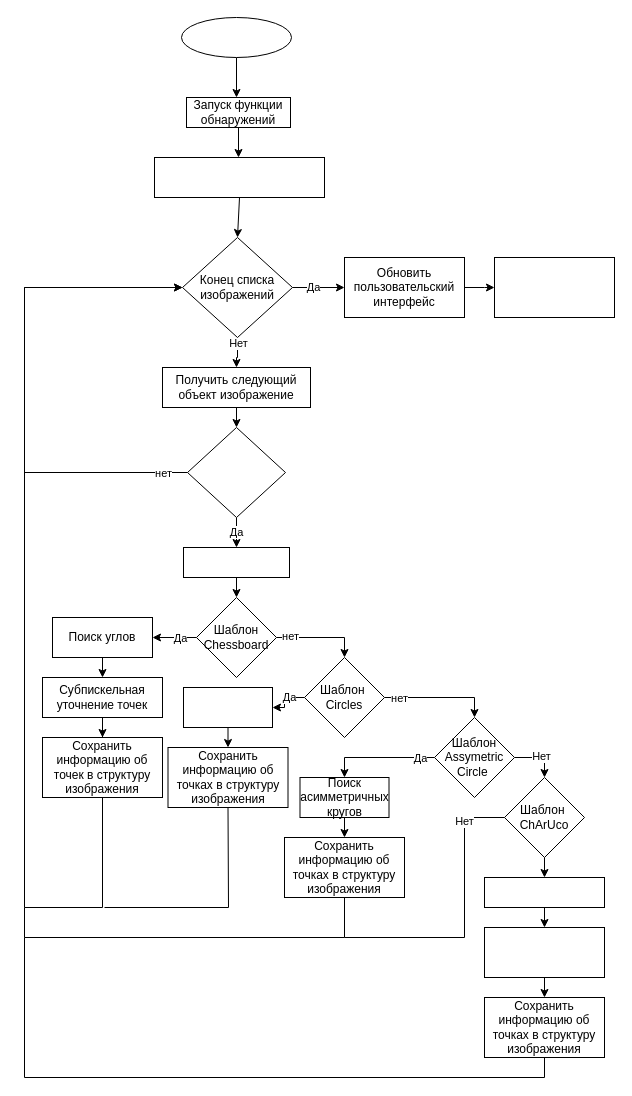
This 632x1096 diagram has some shape labels left out. Each missing label, with the box of its shape:
Была нажата кнопка Detect: (180, 16, 292, 58)
Если изображение активно: (186, 426, 286, 518)
Интерполяция ChArUco углов: (484, 926, 604, 978)
Конец: (494, 256, 614, 318)
Открыть изображение: (182, 546, 290, 578)
Поиск маркеров: (484, 876, 604, 908)
Поиск симметричных кругов: (182, 686, 272, 728)
Чтение структуры информации изображений первой камеры: (154, 156, 324, 198)
